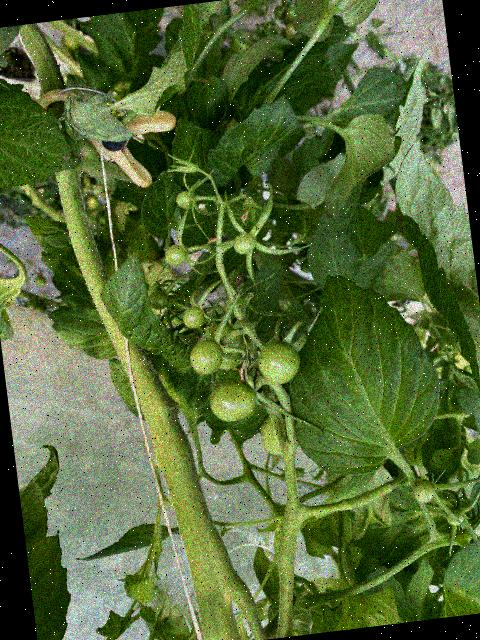l_green: (255, 338, 303, 386), (208, 378, 258, 422), (187, 336, 225, 377), (206, 319, 245, 356), (258, 411, 283, 459), (181, 304, 206, 330), (216, 347, 244, 370), (412, 478, 436, 504), (163, 243, 188, 267), (232, 231, 257, 255), (148, 289, 170, 311), (224, 297, 245, 318), (175, 190, 197, 210), (444, 506, 465, 526), (464, 518, 480, 539), (147, 284, 160, 298)
